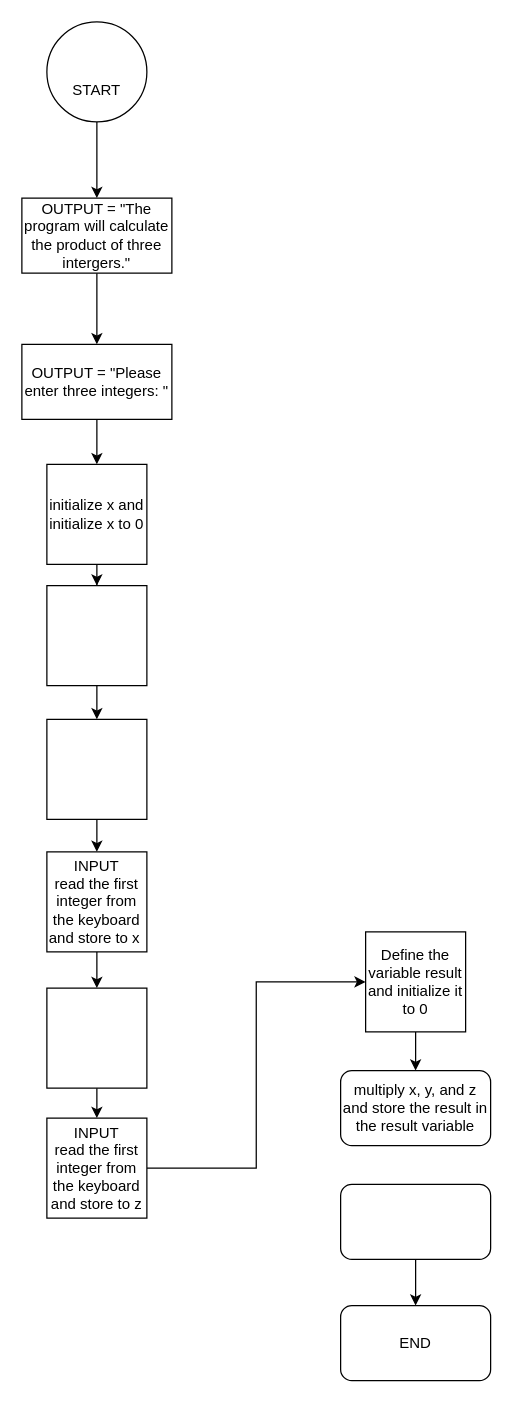
This 513x1403 diagram has some shape labels left out. The centre of each missing label's shape, as x and y in pixels:
initialize y and initialize y to 0: (x=96, y=635)
initialize z and initialize z to 0: (x=96, y=768)
INPUT read the first integer from the keyboard and store to y: (x=96, y=1037)
OUTPUT display "The product is" followed by: (x=415, y=1221)
